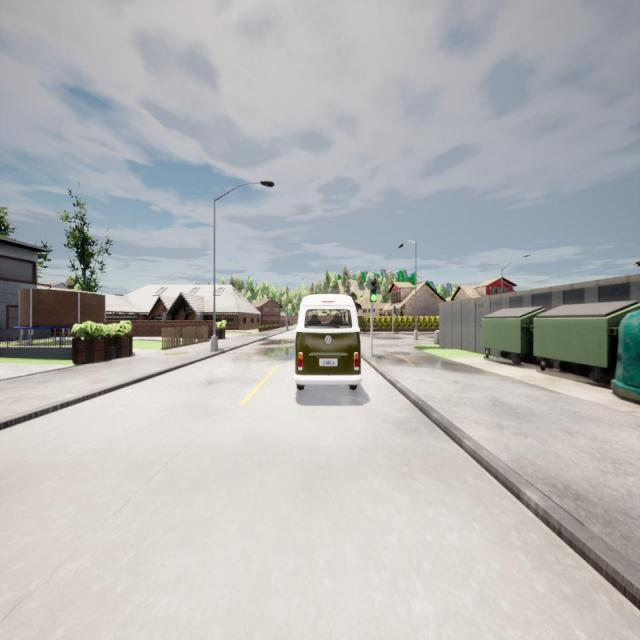Vehicle: (294, 294, 361, 390)
traffic_light: (370, 279, 377, 302), (394, 306, 396, 314)
